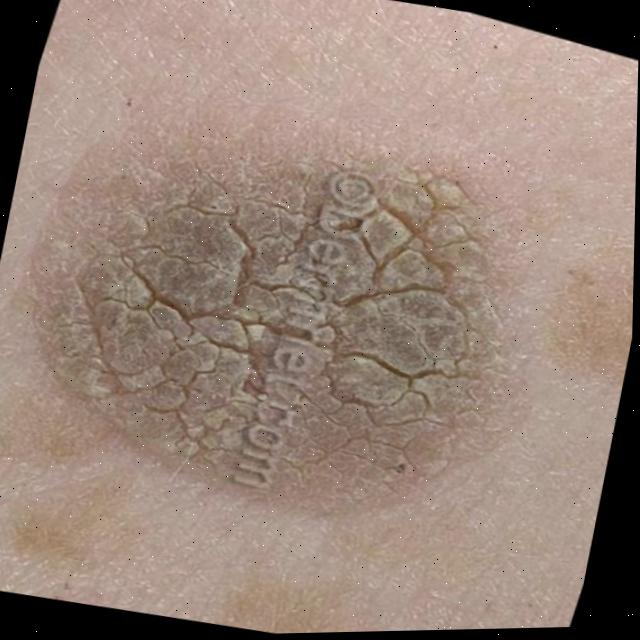Eczema: (0, 101, 531, 550)
